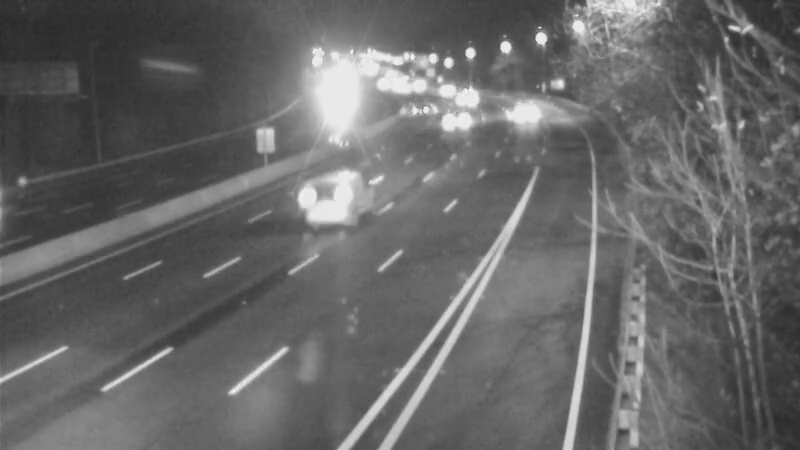vehicle: (297, 169, 377, 249), (1, 147, 72, 227), (418, 66, 468, 116), (444, 72, 494, 122), (397, 76, 447, 126), (493, 94, 543, 144), (430, 95, 480, 145)
